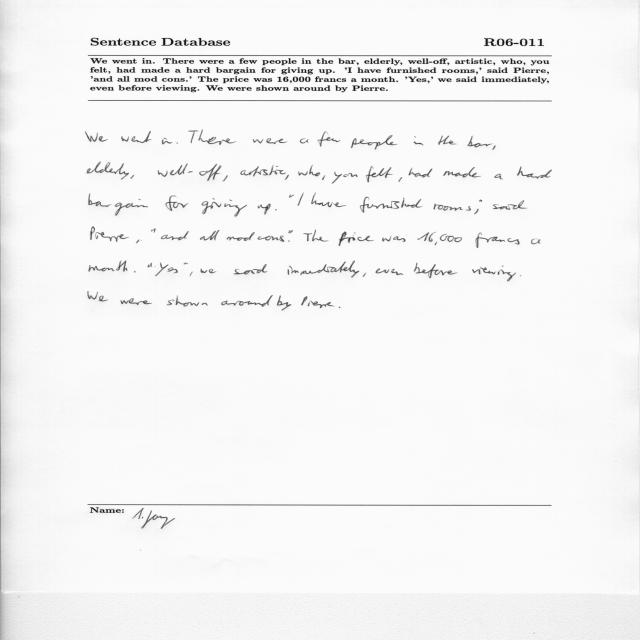word: (89, 194, 148, 216), (288, 261, 360, 277), (158, 163, 221, 181), (360, 197, 422, 213), (201, 198, 247, 217), (87, 162, 129, 180), (188, 130, 236, 145), (414, 263, 457, 279), (476, 233, 520, 248), (351, 135, 397, 149), (221, 295, 273, 307), (472, 267, 516, 281), (418, 232, 462, 245), (91, 227, 129, 242), (338, 231, 374, 246), (240, 166, 286, 177), (312, 193, 347, 207), (167, 296, 208, 307), (366, 167, 393, 183), (517, 167, 552, 179), (443, 167, 481, 178), (301, 296, 335, 308), (89, 261, 127, 271), (121, 131, 152, 143), (318, 132, 341, 147), (493, 200, 527, 210), (234, 264, 268, 274), (166, 196, 188, 211), (304, 230, 329, 242), (155, 263, 178, 276), (434, 203, 471, 211), (332, 172, 358, 183), (468, 136, 493, 147), (226, 232, 255, 241), (161, 231, 189, 240), (86, 131, 108, 142), (298, 165, 320, 176), (409, 168, 433, 178), (120, 298, 152, 305), (277, 296, 291, 311), (253, 138, 287, 144), (88, 292, 108, 302), (376, 268, 404, 275), (438, 135, 457, 145), (200, 230, 219, 240), (258, 236, 285, 242), (382, 236, 406, 242), (258, 204, 271, 215), (413, 137, 424, 146), (201, 269, 217, 274), (298, 194, 304, 206), (162, 138, 172, 144), (494, 174, 503, 180), (531, 239, 541, 244), (300, 139, 309, 144), (223, 176, 228, 182), (474, 209, 479, 214), (492, 145, 496, 150), (285, 175, 289, 180), (399, 177, 403, 182), (151, 229, 156, 233), (147, 263, 152, 267), (130, 175, 134, 179), (322, 175, 325, 180), (289, 195, 294, 198), (288, 230, 293, 233), (136, 240, 139, 244), (190, 272, 193, 276), (363, 273, 366, 277), (479, 199, 482, 202), (184, 263, 188, 265), (176, 142, 178, 144), (275, 209, 277, 211), (288, 240, 290, 242), (134, 271, 136, 273), (502, 266, 504, 267), (339, 307, 341, 308)
